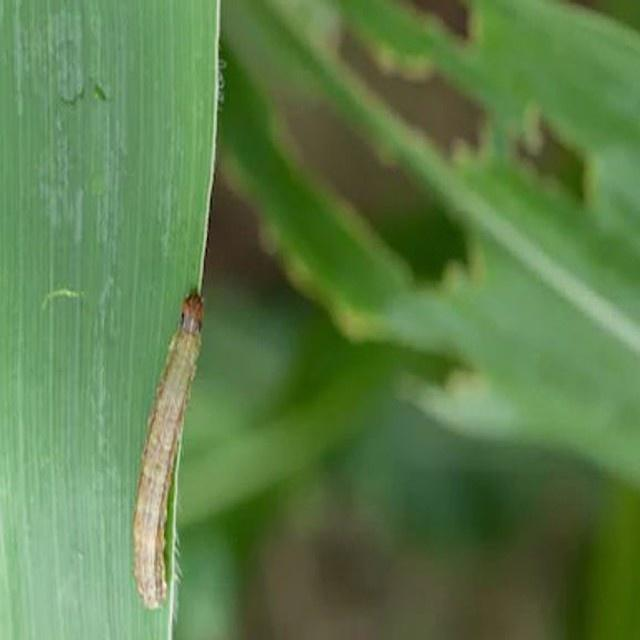gusano_cogollero: (124, 286, 211, 616)
